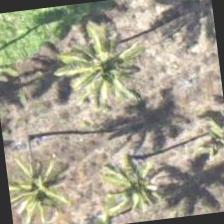Kelapa_Sawit: (58, 14, 158, 114), (78, 135, 179, 223), (3, 139, 84, 223)
